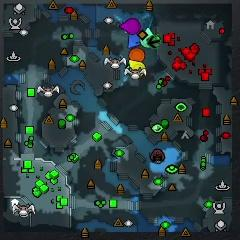p1: (128, 33, 142, 49)
p2: (140, 28, 155, 48)
p3: (120, 18, 141, 35)
p4: (129, 59, 145, 77)
p5: (129, 48, 145, 62)
x4Clone: (147, 35, 160, 49)
